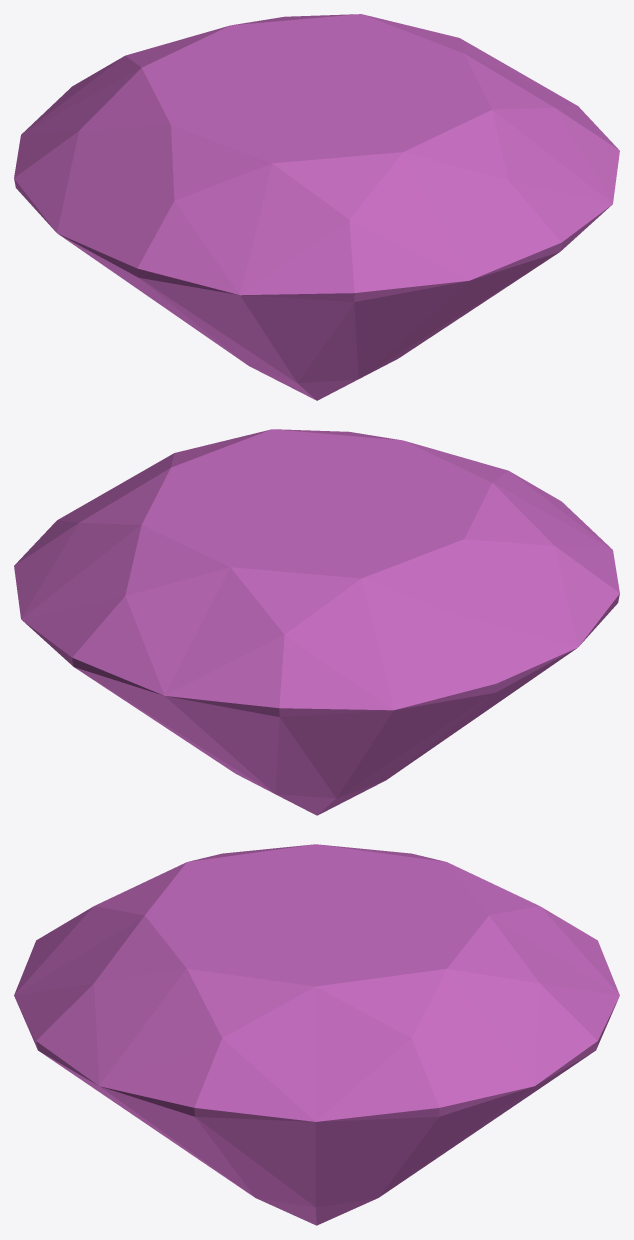
Rendered from Animation_Final_Speedx2.fbx.
The picture shows the model from 3 angles, top to bottom: view 1: azimuth 30°, elevation 25°; view 2: azimuth 150°, elevation 25°; view 3: azimuth 270°, elevation 25°; orthographic projection.
Visible parts, largest first — view 1: Gem009; view 2: Gem009; view 3: Gem009.
Boxes of the visible parts, x1,y1,x2,y2 form: Gem009: (14, 14, 619, 400); Gem009: (14, 429, 619, 815); Gem009: (14, 844, 619, 1225).
Bounding box in the file's own units: 248 × 142 × 251.
